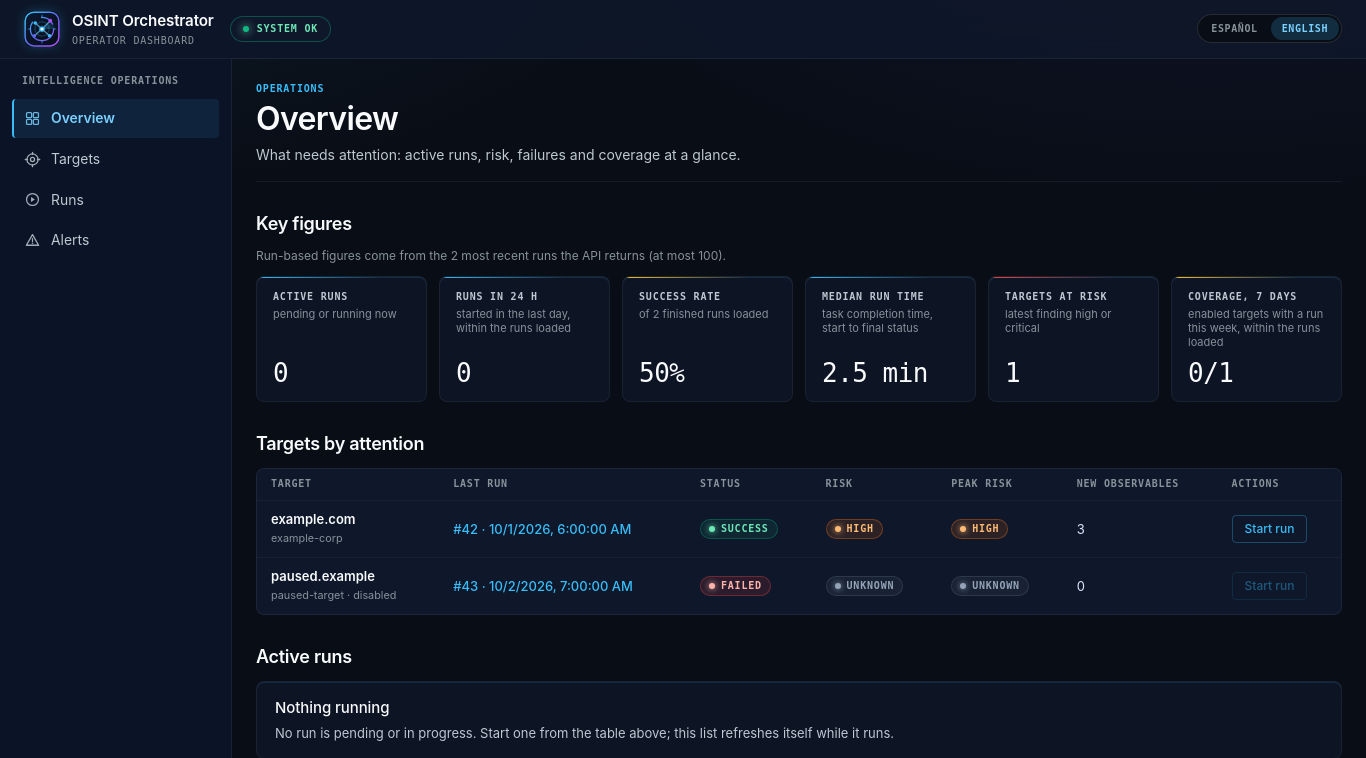
Test: App shell › starts a run from the overview and reports the accepted run
Expected: the heading "Key figures" is shown, x1=256 y1=213 x2=352 y2=234
Click the button named "start run for example-corp". click: (1269, 529)
box: x1=1232 y1=515 x2=1307 y2=543
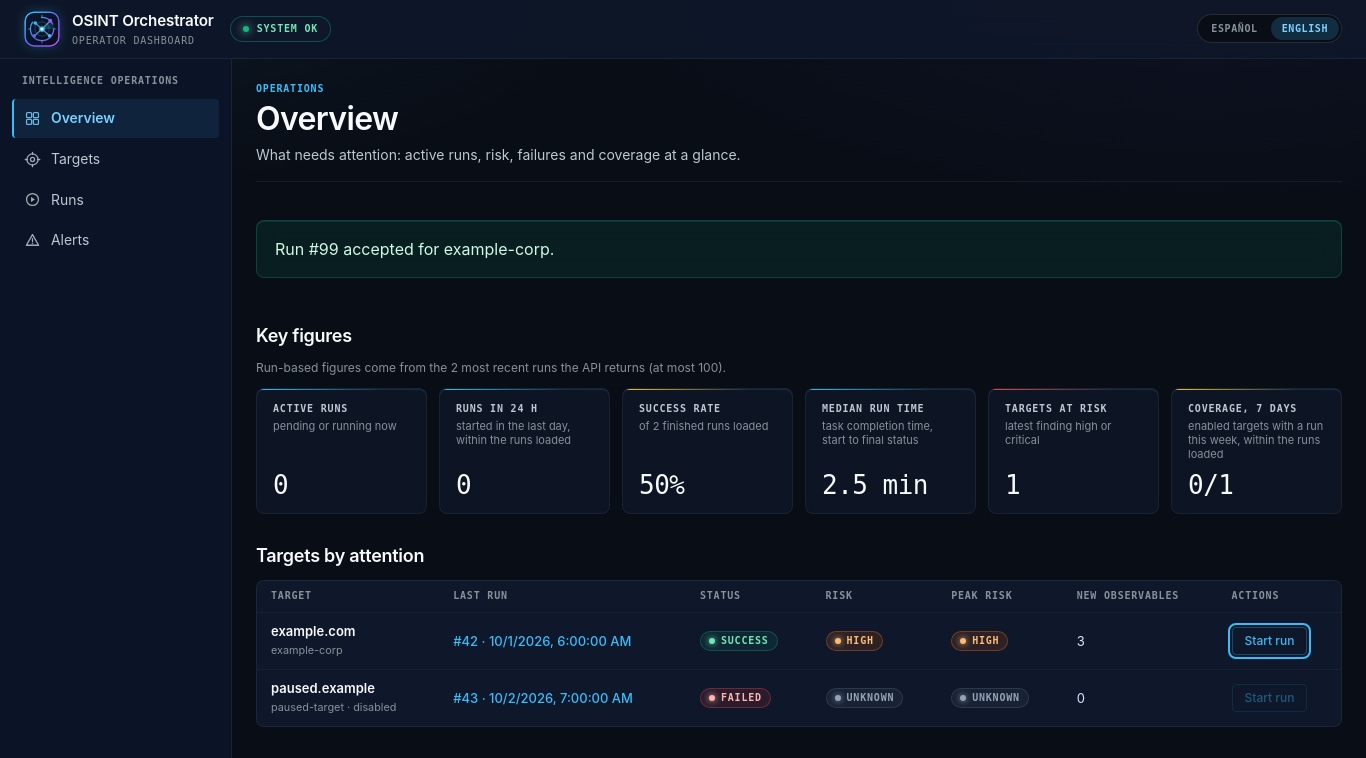
Result: the message shows "Run #99 accepted for example-corp" at x1=275 y1=239 x2=554 y2=259
